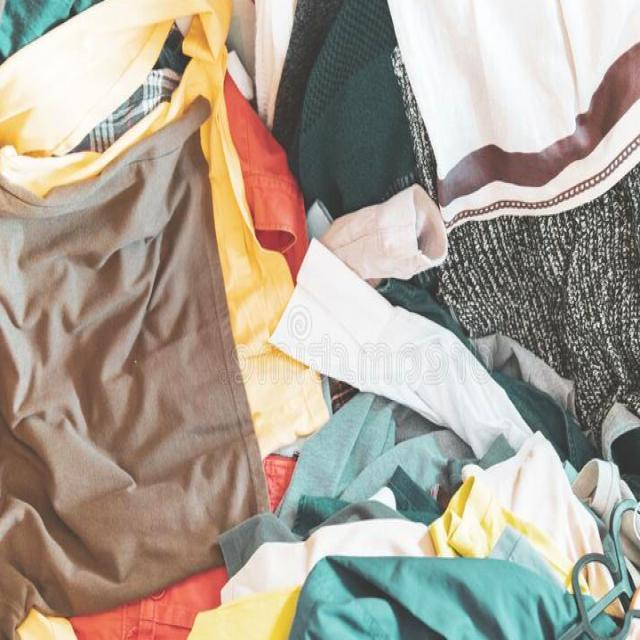clothes: (35, 114, 625, 552)
